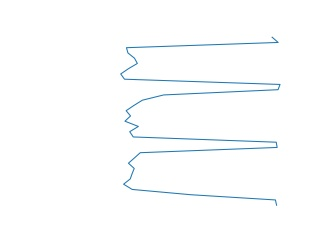majorRiverChannelBar: (120, 39, 284, 206)
